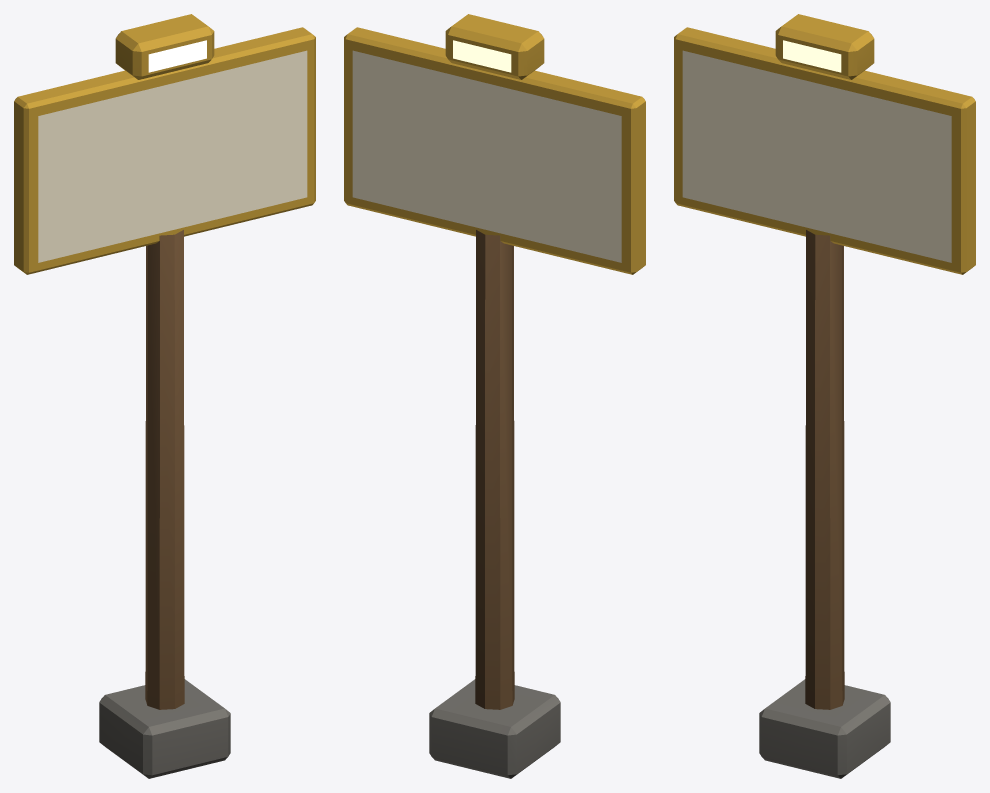
Rendered from taxi_stop_sign.glb.
3 views of the same model, side by side, from view 1: azimuth 30°, elevation 25°; view 2: azimuth 150°, elevation 25°; view 3: azimuth 330°, elevation 25° (orthographic).
Parts seen in each view (by area): view 1: taxi_stop_sign, plate; view 2: taxi_stop_sign, plate; view 3: taxi_stop_sign, plate.
Part boxes in pixels (bbox=[...]): taxi_stop_sign: bbox=[14, 14, 315, 778]; plate: bbox=[38, 50, 307, 262]; taxi_stop_sign: bbox=[344, 14, 645, 778]; plate: bbox=[352, 50, 621, 262]; taxi_stop_sign: bbox=[674, 14, 975, 778]; plate: bbox=[682, 50, 951, 262].
Size of the model in its own units: 1 by 2.37 by 0.3.
